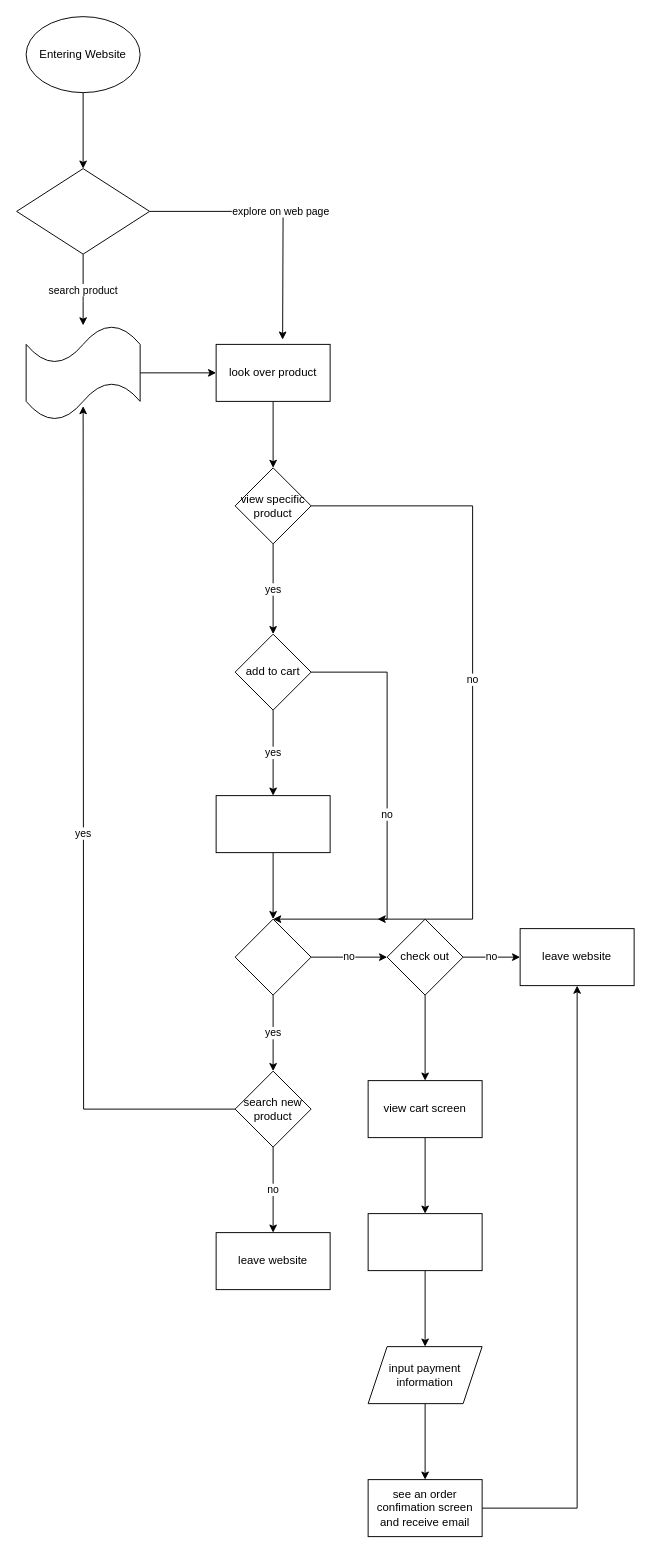
Some shapes in this 651 by 1553 pixel diagram are drawn without their labels. Here are the shapes that lost their labels. From the top down, the centre of each, then its label:
At point (83, 211): "search product or explore on web page".
At point (82, 372): "input for website".
At point (272, 824): "added to cart information".
At point (272, 956): "continue shopping".
At point (424, 1242): "view payment screen".
